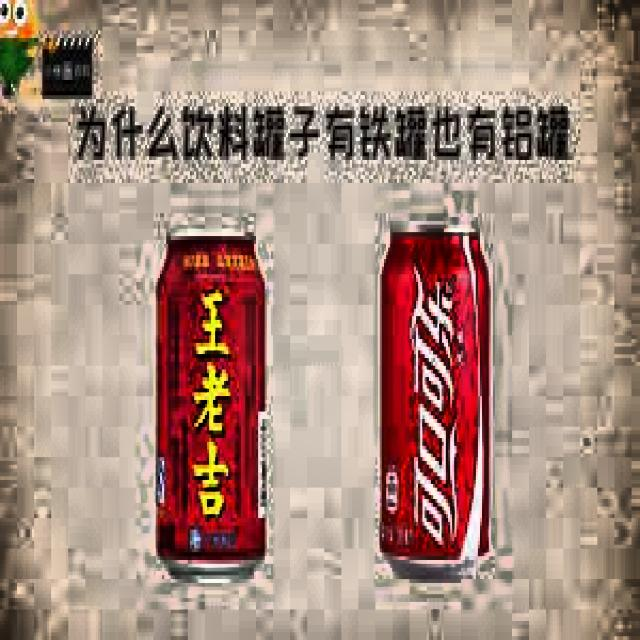can: (147, 214, 276, 603), (371, 198, 495, 590)
